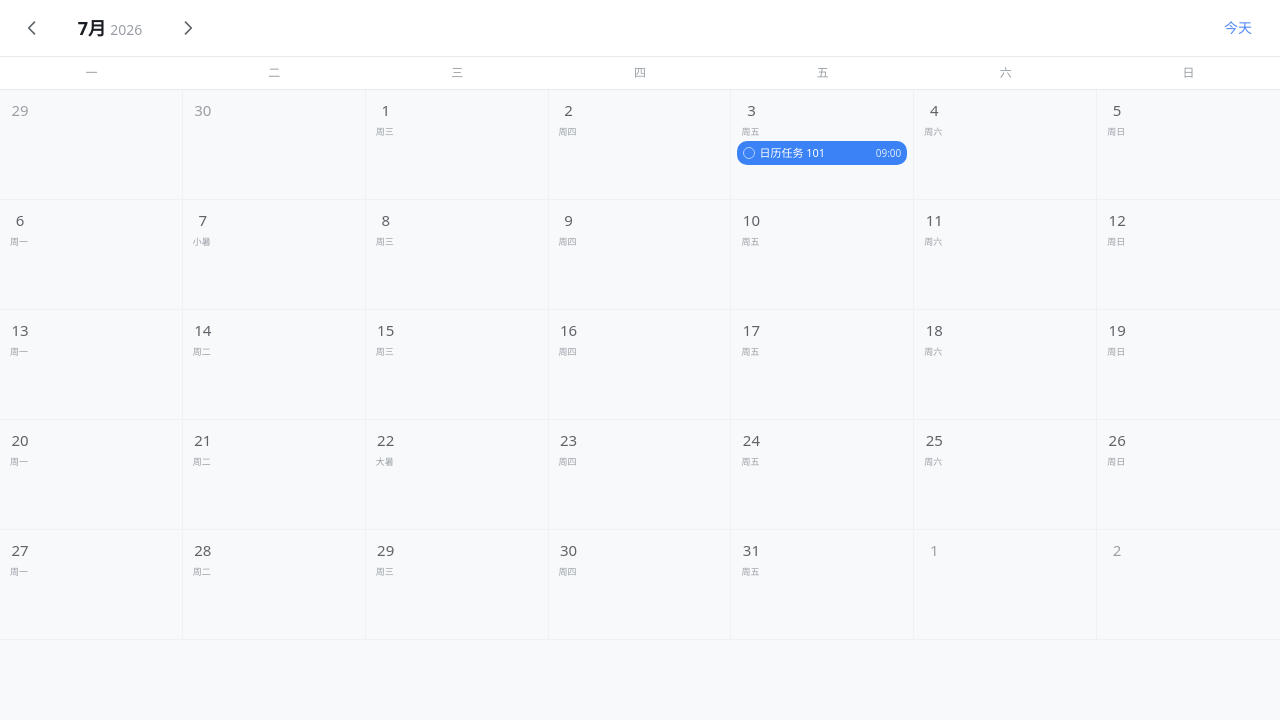
Test: 日历任务右键菜单 › 月视图：右键任务打开菜单并阻止原生菜单，隐藏置顶与添加子任务
The image size is (1280, 720).
# fireEvent 返回 false 表示原生 contextmenu 被 preventDefault
Right-click the element with test id "calendar-task-block-101": coordinates (822, 153) [737,141,907,165]
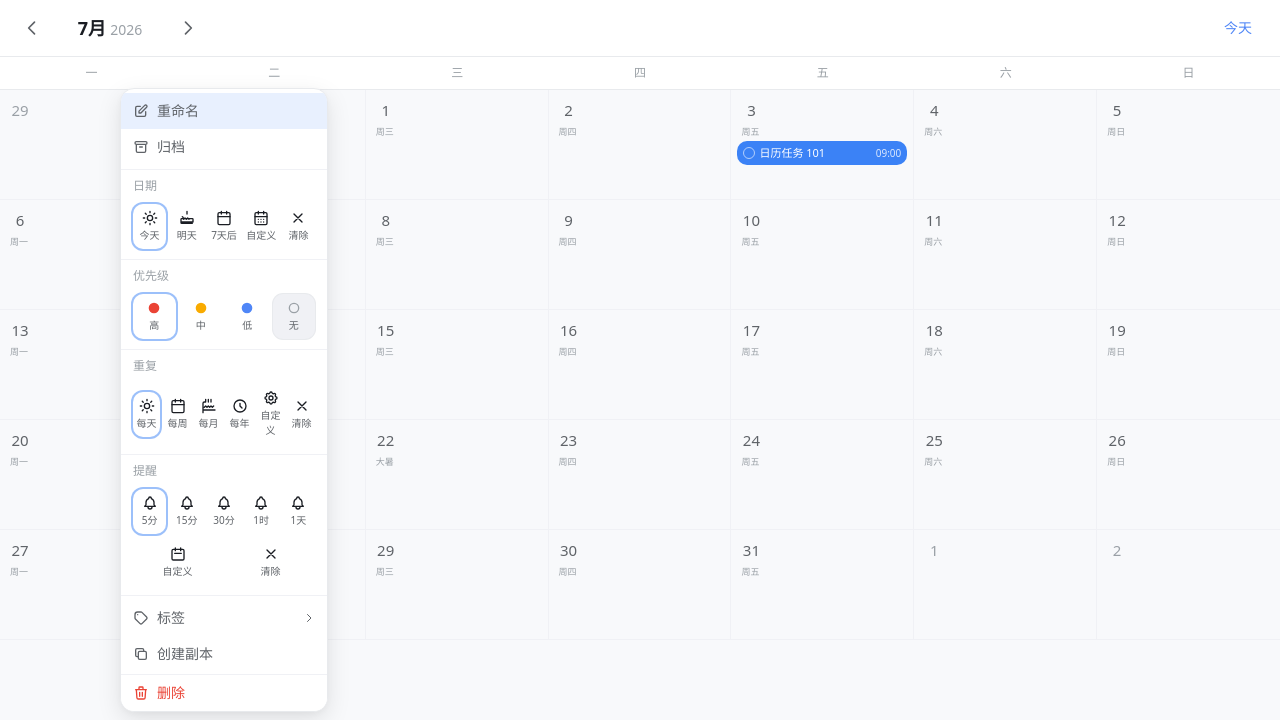
Check: the element with test id "task-context-menu" is shown, box [120,88,328,712]
Check: the button with test id "ctx-rename" is shown, box [121,93,327,129]
Check: the button with test id "ctx-delete" is shown, box [121,675,327,711]
